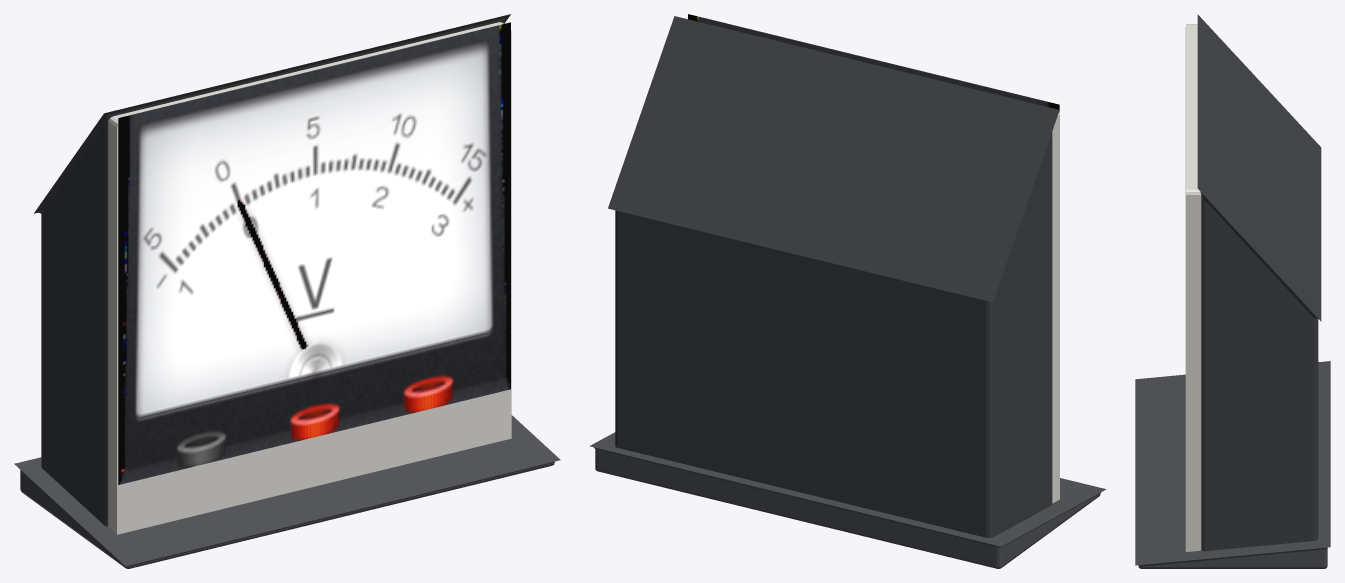
Rendered from voltmeter.glb.
3 renders of one model, left to right at view 1: azimuth 30°, elevation 25°; view 2: azimuth 150°, elevation 25°; view 3: azimuth 270°, elevation 25°, orthographic. The views are drawn at different scales.
Parts seen in each view (by area): view 1: dial, panel, shell, base; view 2: shell, base, panel, dial; view 3: shell, base, panel.
Part boxes in pixels (x1=…): dial: x1=118, y1=22, x2=510, y2=484; panel: x1=108, y1=22, x2=511, y2=534; shell: x1=34, y1=14, x2=510, y2=526; base: x1=14, y1=415, x2=560, y2=568; shell: x1=608, y1=16, x2=1059, y2=537; base: x1=589, y1=432, x2=1106, y2=568; panel: x1=1052, y1=112, x2=1059, y2=503; dial: x1=688, y1=14, x2=1059, y2=112; shell: x1=1197, y1=14, x2=1321, y2=551; base: x1=1135, y1=361, x2=1330, y2=568; panel: x1=1185, y1=24, x2=1201, y2=551.
Size of the model in its own units: 1.42 by 1.34 by 0.6299.
Materials: 4 (1 with a texture image).
